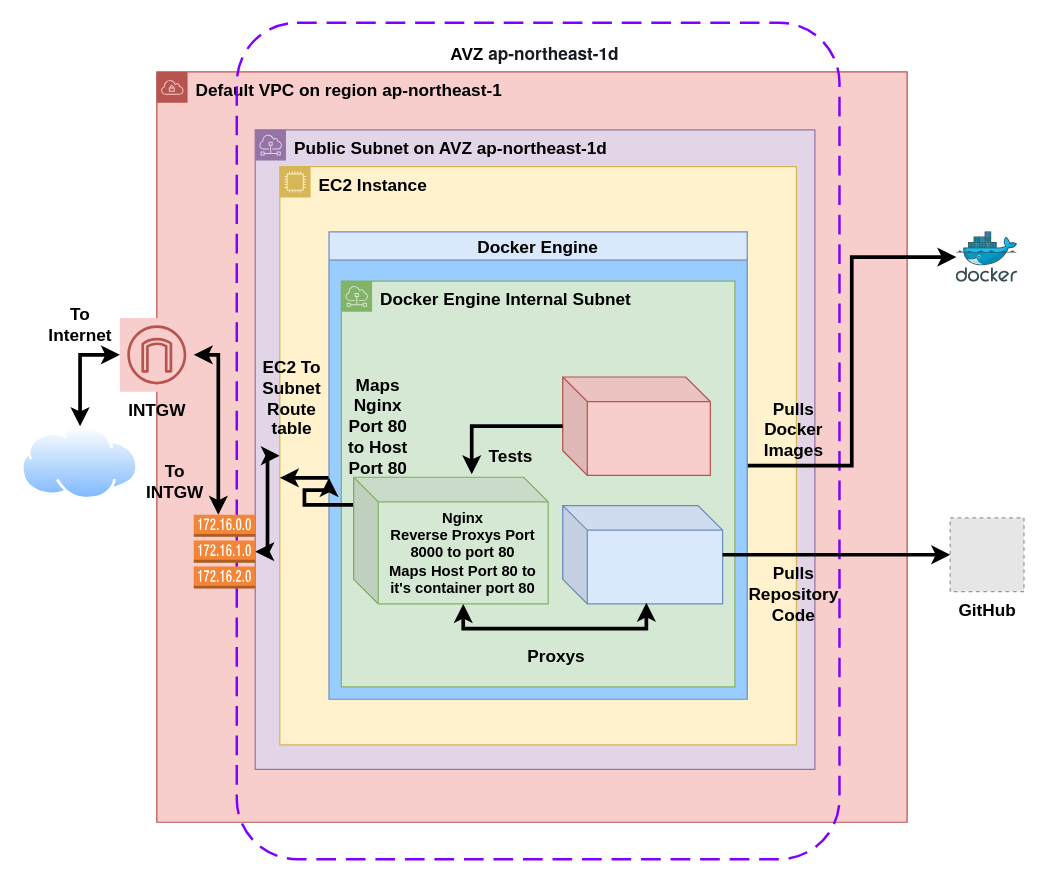
The diagram is 1057 pixels wide and 881 high, and some of its shapes have lost their labels. Grey dashed boxes stand in for pictures. The shapes that lost their labels are listed below. From the top down, each one's centre as x and y in pixels, then its label:
At pixel 986 256: "Docker Hub".
At pixel 635 425: "Cypress Tests Port 80 on Nginx".
At pixel 79 462: "Internet".
At pixel 642 554: "Url Shortener APP Container Gunicorn on Port 8000".
